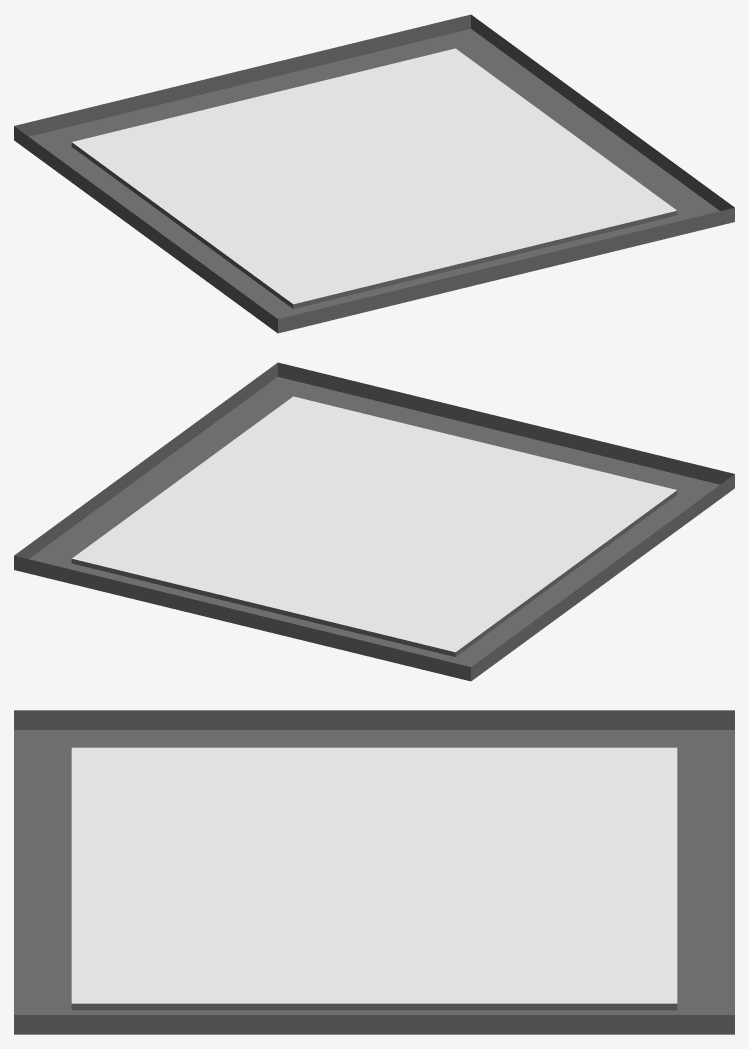
The model's file is SM_ceilingLamp_01.glb.
3 renders of one model, top to bottom at view 1: azimuth 30°, elevation 25°; view 2: azimuth 150°, elevation 25°; view 3: azimuth 270°, elevation 25°, orthographic. The views are drawn at different scales.
Visible parts, largest first — view 1: SM_ceilingLamp_01; view 2: SM_ceilingLamp_01; view 3: SM_ceilingLamp_01.
Boxes of the visible parts, <box> form: SM_ceilingLamp_01: <box>14,14,734,333</box>; SM_ceilingLamp_01: <box>14,362,734,681</box>; SM_ceilingLamp_01: <box>14,710,734,1034</box>.
Size of the model in its own units: 1 by 0.03 by 1.
Materials: 1 (1 with a texture image).
